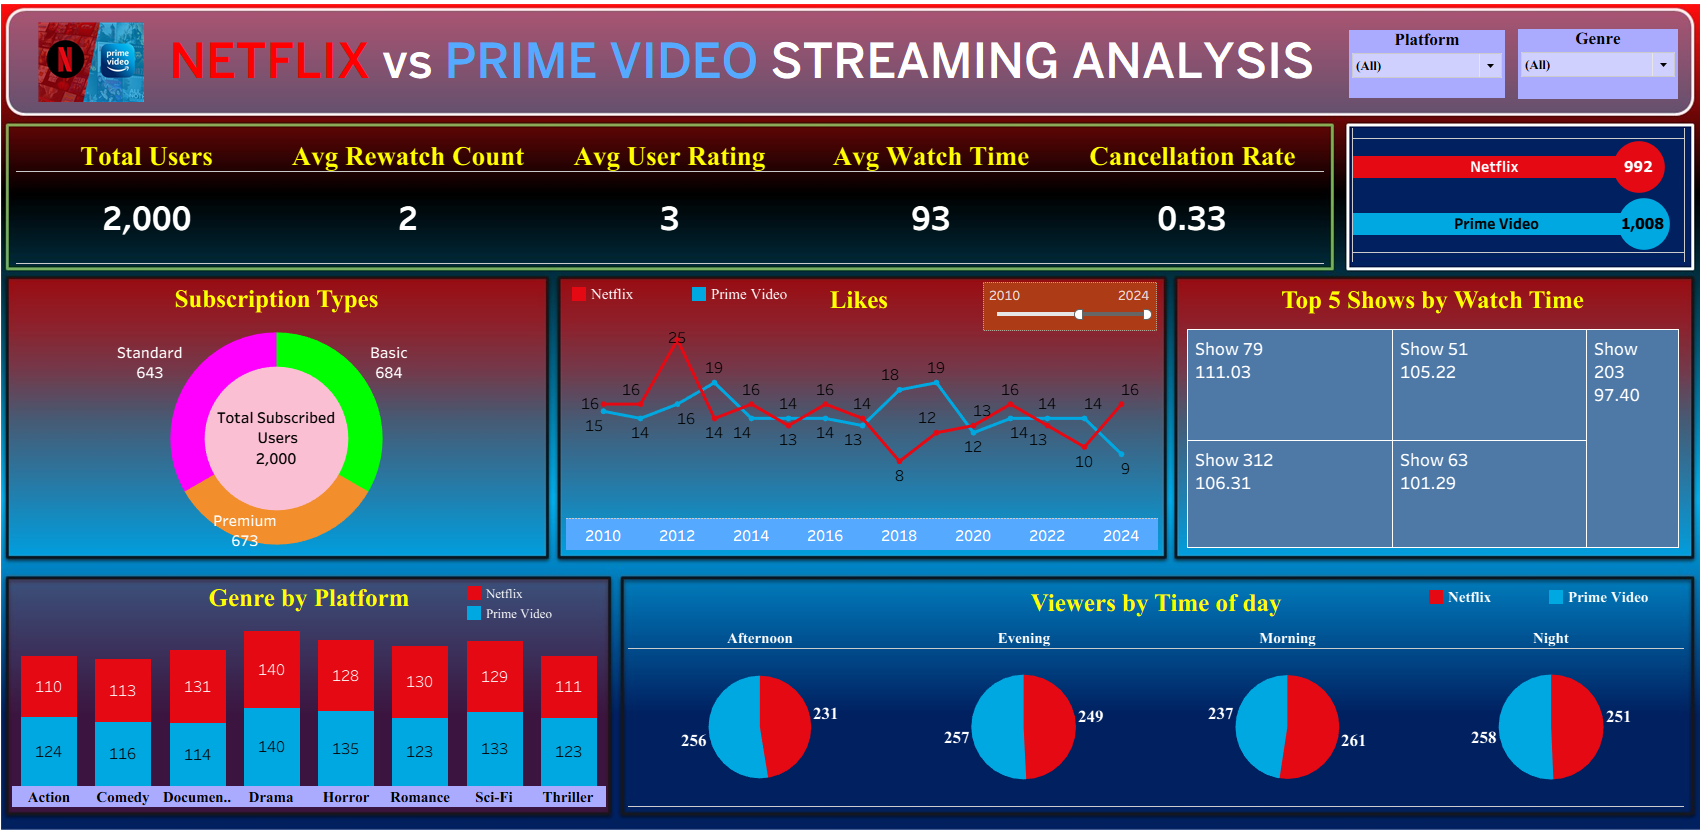

What the dashboard file says about the page in this screenshot:
{"tool":"tableau","page":{"name":"NETFLIX vs PRIME VIDEO STREAMING ANALYSIS","canvas":[1750,850],"ordinal":0},"visuals":[{"type":"image","param":"C:/Users/vinot/Downloads/Presentation1.jpg","box":[8,8,1734,834]},{"type":"text","box":[176,26,1180,87]},{"type":"image","param":"C:/Users/vinot/Downloads/Netflix-vs-Amazon.jpg","box":[56,30,119,80]},{"type":"filter","title":"Sheet 1","param":"[federated.063z9cm1cuasdk13lpj651k54yhm].[none:Genre:nk]","box":[1542,37,160,70]},{"type":"filter","title":"Sheet 1","param":"[federated.063z9cm1cuasdk13lpj651k54yhm].[none:Platform:nk]","box":[1373,38,156,68]},{"type":"worksheet","title":"Platform Users","mark":"Automatic","rows":["Platform"],"cols":["User ID","User ID"],"box":[1376,136,336,135]},{"type":"worksheet","title":"Sheet 1","mark":"Automatic","box":[40,139,1308,133]},{"type":"worksheet","title":"Subscription Types","mark":"Pie","rows":["Calculation_866098533279006731","Calculation_866098533279006731"],"box":[35,289,531,272]},{"type":"worksheet","title":"Year wise LIKE","mark":"Automatic","rows":["Likes"],"cols":["Release Year"],"box":[590,290,592,268]},{"type":"filter","title":"Year wise LIKE","param":"[federated.063z9cm1cuasdk13lpj651k54yhm].[none:Release Year:qk]","box":[1007,290,174,49]},{"type":"worksheet","title":"Top Shows by Watch Time","mark":"Square","box":[1207,290,504,269]},{"type":"legend","title":"Year wise LIKE","param":"[federated.063z9cm1cuasdk13lpj651k54yhm].[none:Platform:nk]","box":[593,292,243,40]},{"type":"worksheet","title":"Genre by Platform","mark":"Automatic","rows":["Show Name"],"cols":["Genre"],"box":[36,588,594,227]},{"type":"legend","title":"Genre by Platform","param":"[federated.063z9cm1cuasdk13lpj651k54yhm].[none:Platform:nk]","box":[488,591,140,47]},{"type":"worksheet","title":"Viewers by Time of day","mark":"Pie","cols":["Time of Day"],"box":[652,593,1056,222]},{"type":"legend","title":"Viewers by Time of day","param":"[federated.063z9cm1cuasdk13lpj651k54yhm].[none:Platform:nk]","box":[1450,595,249,28]}]}

Visuals, with their boxes in screenshot pixels (x1, y1, x2, y2), scaled from the page's 1750x850 canvas onto the 1700x832 screenshot:
image: <bbox>8, 8, 1692, 824</bbox>
text: <bbox>171, 25, 1317, 111</bbox>
image: <bbox>54, 29, 170, 108</bbox>
"Sheet 1" filter: <bbox>1498, 36, 1653, 105</bbox>
"Sheet 1" filter: <bbox>1334, 37, 1485, 104</bbox>
"Platform Users" worksheet: <bbox>1337, 133, 1663, 265</bbox>
"Sheet 1" worksheet: <bbox>39, 136, 1309, 266</bbox>
"Subscription Types" worksheet (Pie marks): <bbox>34, 283, 550, 549</bbox>
"Year wise LIKE" worksheet: <bbox>573, 284, 1148, 546</bbox>
"Year wise LIKE" filter: <bbox>978, 284, 1147, 332</bbox>
"Top Shows by Watch Time" worksheet (Square marks): <bbox>1173, 284, 1662, 547</bbox>
"Year wise LIKE" legend: <bbox>576, 286, 812, 325</bbox>
"Genre by Platform" worksheet: <bbox>35, 576, 612, 798</bbox>
"Genre by Platform" legend: <bbox>474, 578, 610, 624</bbox>
"Viewers by Time of day" worksheet (Pie marks): <bbox>633, 580, 1659, 798</bbox>
"Viewers by Time of day" legend: <bbox>1409, 582, 1650, 610</bbox>
